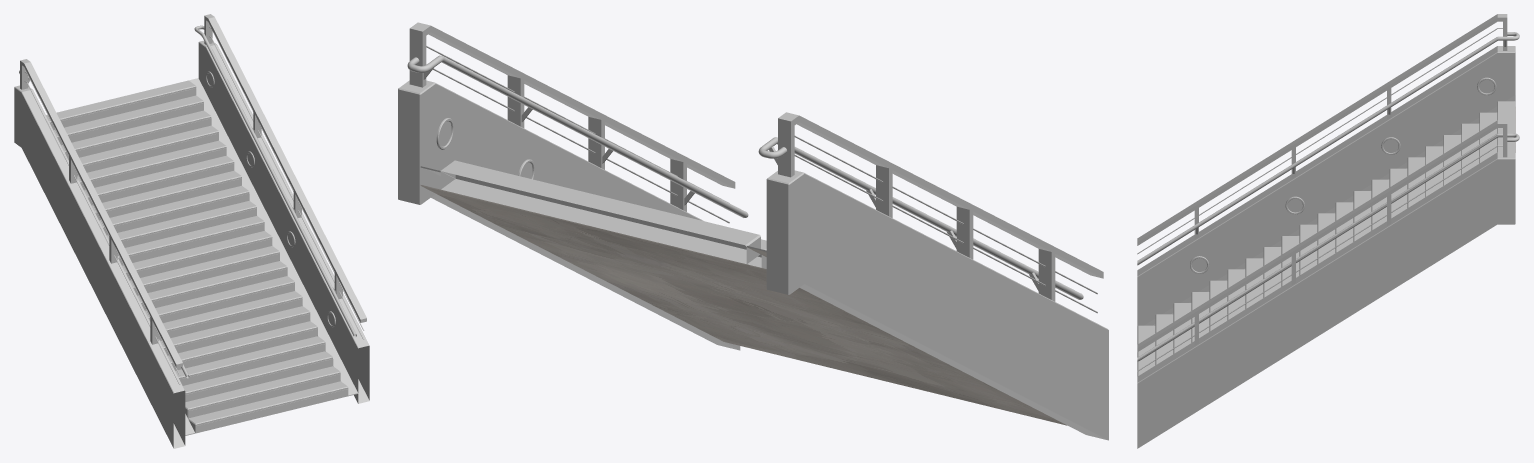
File: MESH_StairsSingle_Second.fbx
3 renders of one model, left to right at view 1: azimuth 30°, elevation 25°; view 2: azimuth 150°, elevation 25°; view 3: azimuth 270°, elevation 25°, orthographic. The views are drawn at different scales.
Visible parts, largest first — view 1: StairsSingle, ConcreteBaseL_Second.001, ConcreteBaseR_Second.001, HandleR_Second.001, HandleL_Second.001, LampsR_Second.001; view 2: ConcreteBaseL_Second.001, StairsSingle, ConcreteBaseR_Second.001, HandleL_Second.001, HandleR_Second.001, LampsR_Second.001; view 3: ConcreteBaseR_Second.001, ConcreteBaseL_Second.001, StairsSingle, HandleL_Second.001, HandleR_Second.001, LampsL_Second.001.
Boxes of the visible parts, x1,y1,x2,y2 form: StairsSingle: (46,78,358,435); ConcreteBaseL_Second.001: (14,85,185,448); ConcreteBaseR_Second.001: (198,40,369,403); HandleR_Second.001: (194,14,366,340); HandleL_Second.001: (19,59,189,385); LampsR_Second.001: (205,71,335,327); ConcreteBaseL_Second.001: (766,170,1108,440); StairsSingle: (420,160,1066,425); ConcreteBaseR_Second.001: (398,80,740,350); HandleL_Second.001: (758,112,1103,313); HandleR_Second.001: (407,22,748,223); LampsR_Second.001: (436,118,535,179); ConcreteBaseR_Second.001: (1137,152,1515,448); ConcreteBaseL_Second.001: (1137,46,1515,325); StairsSingle: (1137,95,1515,376); HandleL_Second.001: (1137,14,1519,265); HandleR_Second.001: (1137,120,1519,371); LampsL_Second.001: (1190,77,1496,273).
Bounding box in the file's own units: 425 × 567 × 607.
